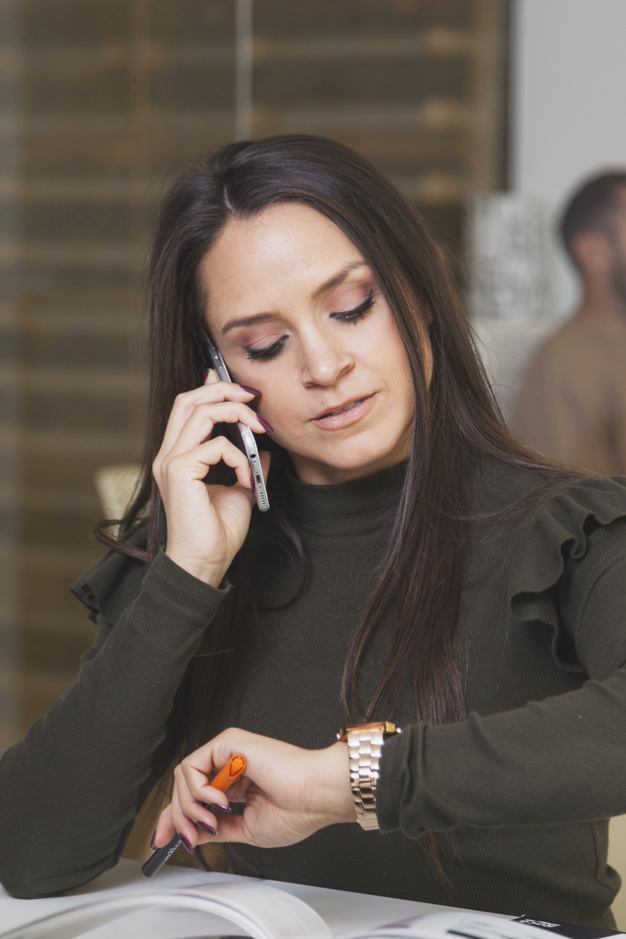phone: (152, 343, 278, 523)
talk: (153, 256, 415, 561)
